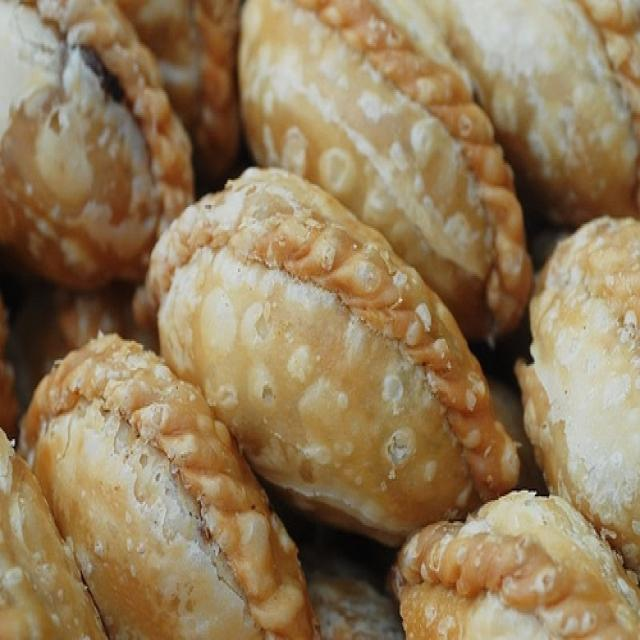炸货点心: (2, 9, 610, 630)
